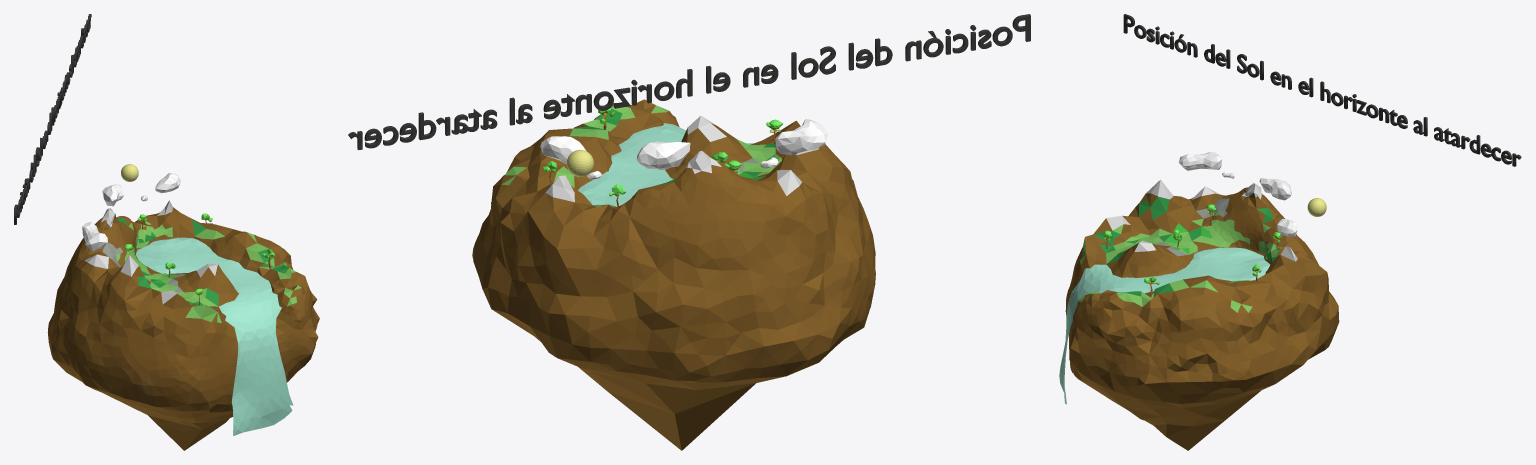
The picture shows the model from 3 angles, left to right: view 1: azimuth 30°, elevation 25°; view 2: azimuth 150°, elevation 25°; view 3: azimuth 270°, elevation 25°; orthographic projection. The views are drawn at different scales.
Parts seen in each view (by area): view 1: Esfera geodésica, Plano, Texto, Esfera geodésica.010, Esfera geodésica.012, Esfera geodésica.009; view 2: Esfera geodésica, Texto, Plano, Esfera geodésica.010, Esfera geodésica.009, Esfera geodésica.012; view 3: Esfera geodésica, Plano, Texto, Esfera geodésica.010, Esfera geodésica.009.
Part boxes in pixels (x1,y1,x2,y2): Esfera geodésica: (47, 200, 319, 450); Plano: (136, 237, 293, 435); Texto: (14, 14, 91, 224); Esfera geodésica.010: (82, 221, 107, 251); Esfera geodésica.012: (155, 173, 180, 193); Esfera geodésica.009: (102, 184, 123, 206); Esfera geodésica: (472, 99, 875, 450); Texto: (348, 14, 1030, 150); Plano: (578, 123, 753, 206); Esfera geodésica.010: (775, 119, 828, 155); Esfera geodésica.009: (636, 141, 690, 169); Esfera geodésica.012: (540, 136, 585, 163); Esfera geodésica: (1065, 179, 1339, 450); Plano: (1059, 247, 1269, 404); Texto: (1123, 14, 1521, 166); Esfera geodésica.010: (1179, 151, 1221, 170); Esfera geodésica.009: (1259, 178, 1291, 200).
Bounding box in the file's own units: 25.67 × 24.35 × 30.59.
